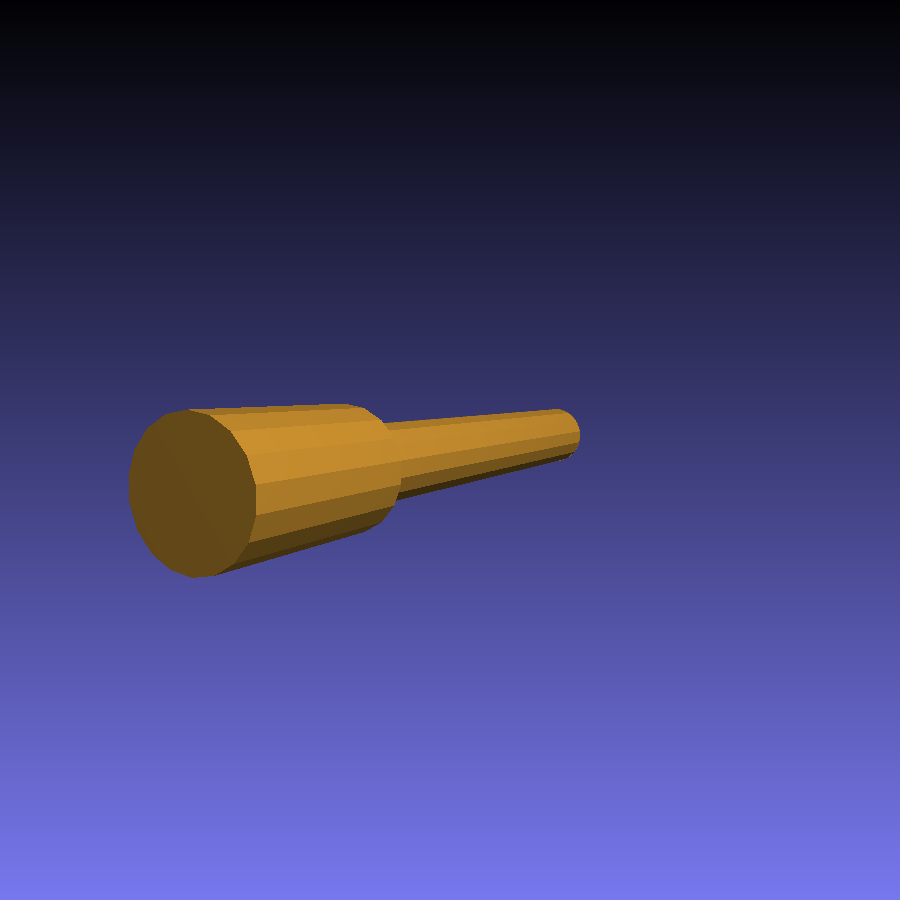cargo_g: (127, 403, 581, 579)
